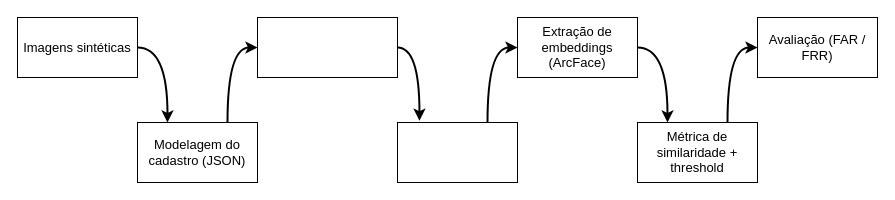
The diagram is 895 pixels wide and 200 high, and some of its shapes have lost their labels. Each missing label, with the centre of its shape:
"Extração de características (FaceMesh - baseline)" goes at point (327, 47).
"Geração de variações sintéticas" goes at point (457, 152).
